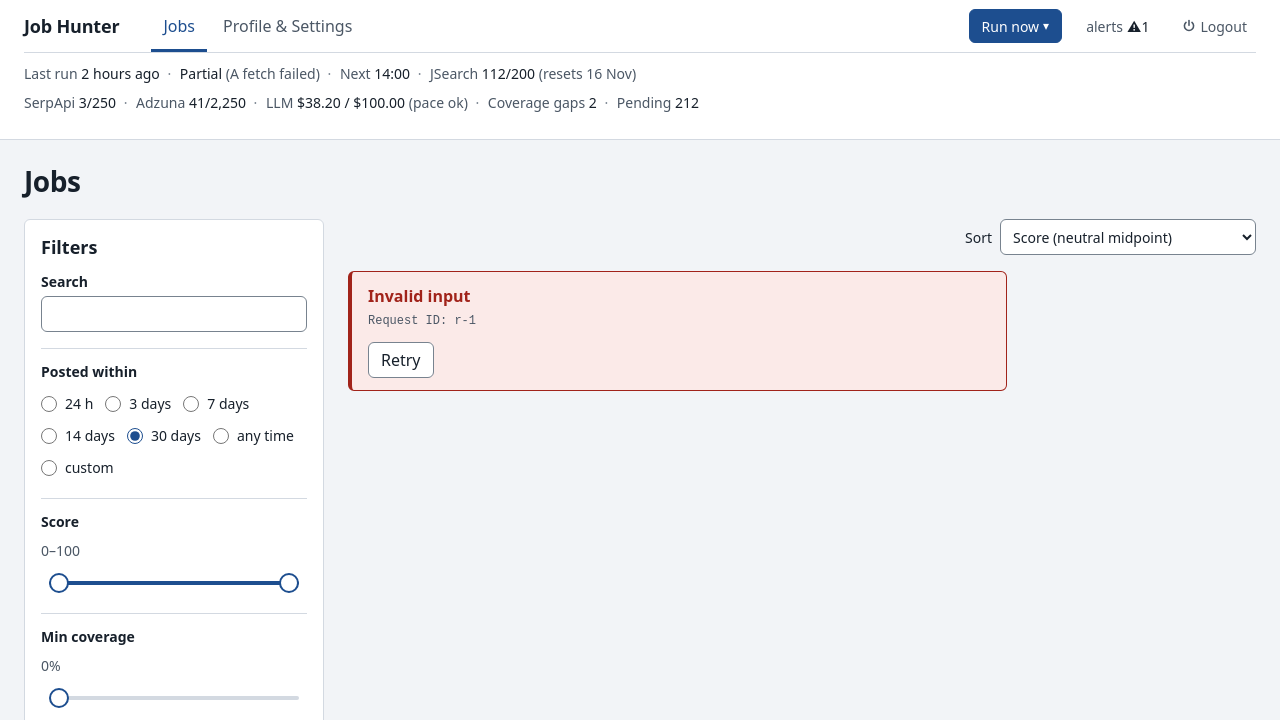
it: JobsPage › empty, loading, error and no-profile states
Later steps or results of the test are not shown.
Check: the heading "Jobs" is shown, box [24,162,81,200]
Check: the message shows "Invalid input", box [368,285,470,307]
Click the button "Retry".
click(401, 360)  # box [368,342,434,378]
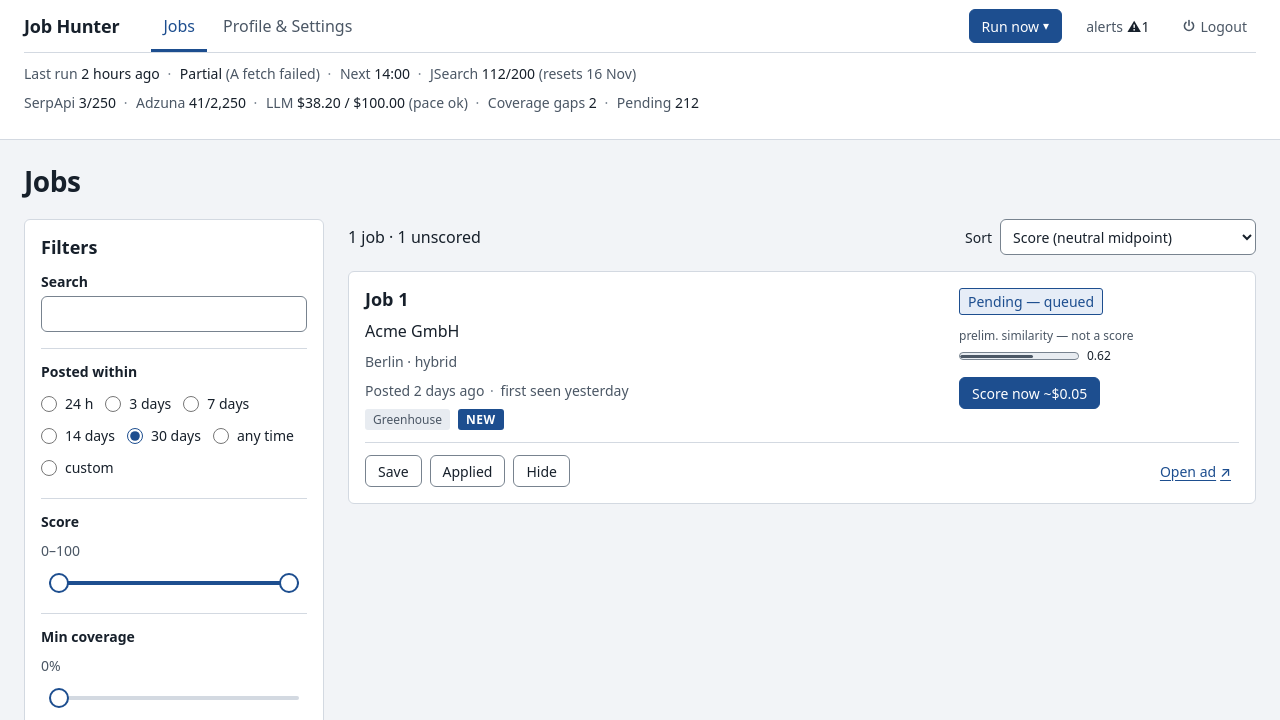
Check: the element "Job 1" is shown, box [348,271,1256,504]
